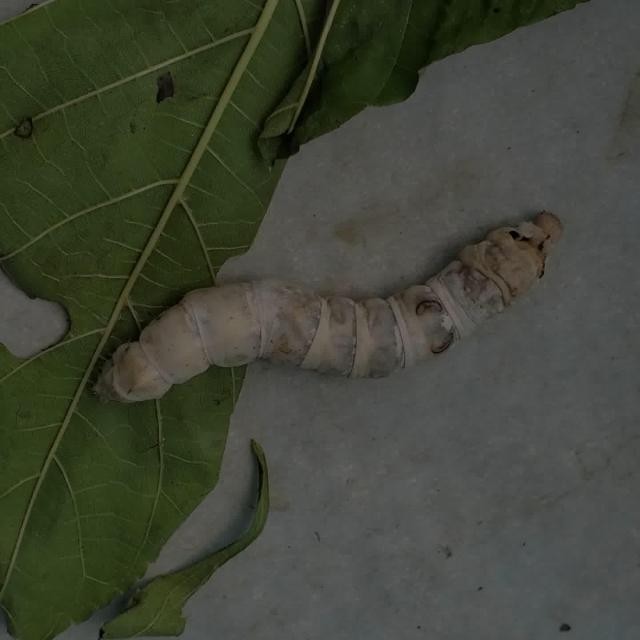Grasserie: (102, 201, 569, 430)
